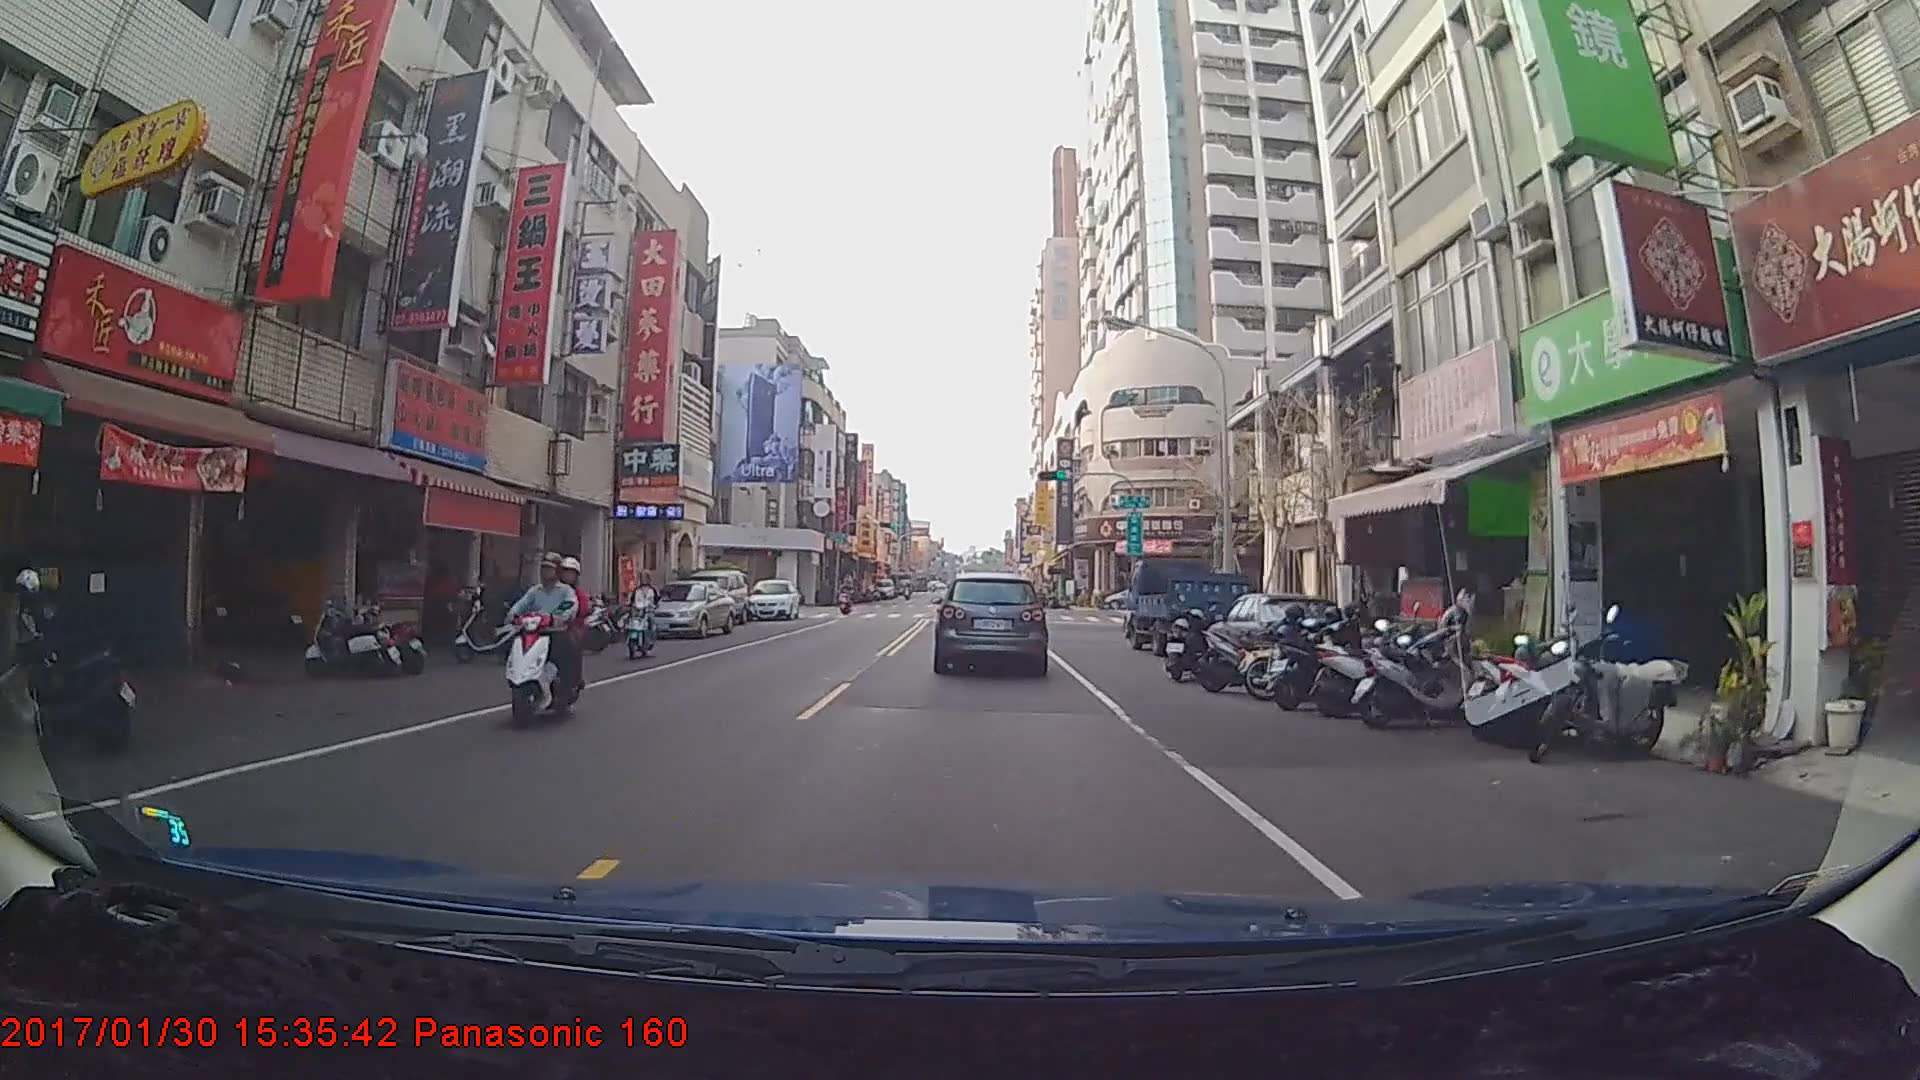rider: (498, 557, 589, 731), (629, 575, 663, 667), (836, 577, 856, 617)
vehicle: (1124, 556, 1255, 654), (935, 570, 1047, 674), (634, 580, 736, 639), (679, 567, 749, 627), (745, 576, 798, 621)
